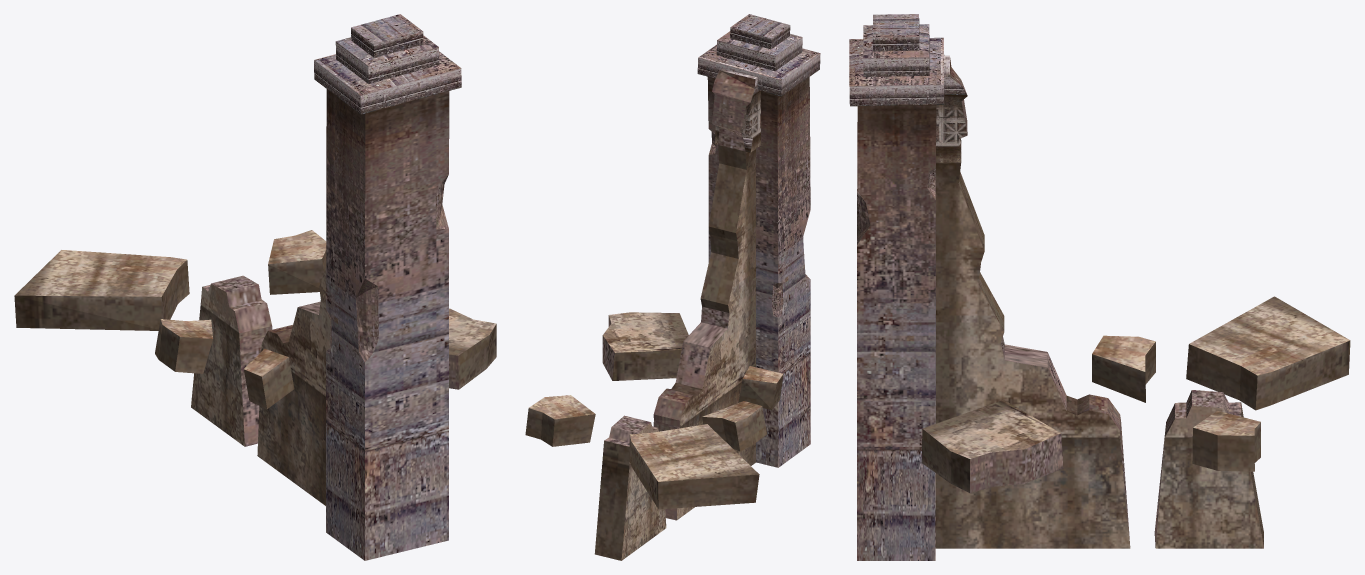
The model's file is MWalB6.glb.
3 renders of one model, left to right at view 1: azimuth 30°, elevation 25°; view 2: azimuth 150°, elevation 25°; view 3: azimuth 270°, elevation 25°, orthographic. The views are drawn at different scales.
Visible parts, largest first — view 1: _MWalB6; view 2: _MWalB6; view 3: _MWalB6.
Part boxes in pixels (x1,y1,x2,y2): _MWalB6: (14, 14, 496, 560); _MWalB6: (525, 14, 820, 560); _MWalB6: (849, 14, 1350, 560).
Bounding box in the file's own units: 2.96 × 4.34 × 3.82.
Materials: 3 (3 with a texture image).
